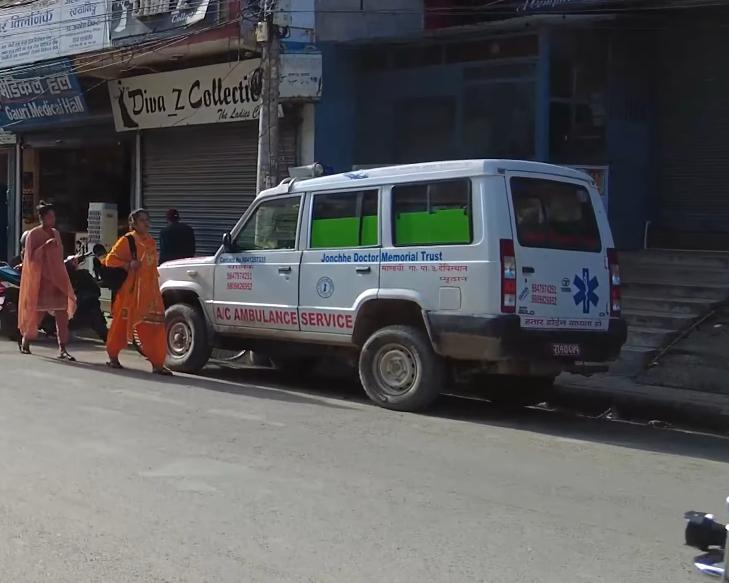ambulance: (141, 146, 640, 423)
